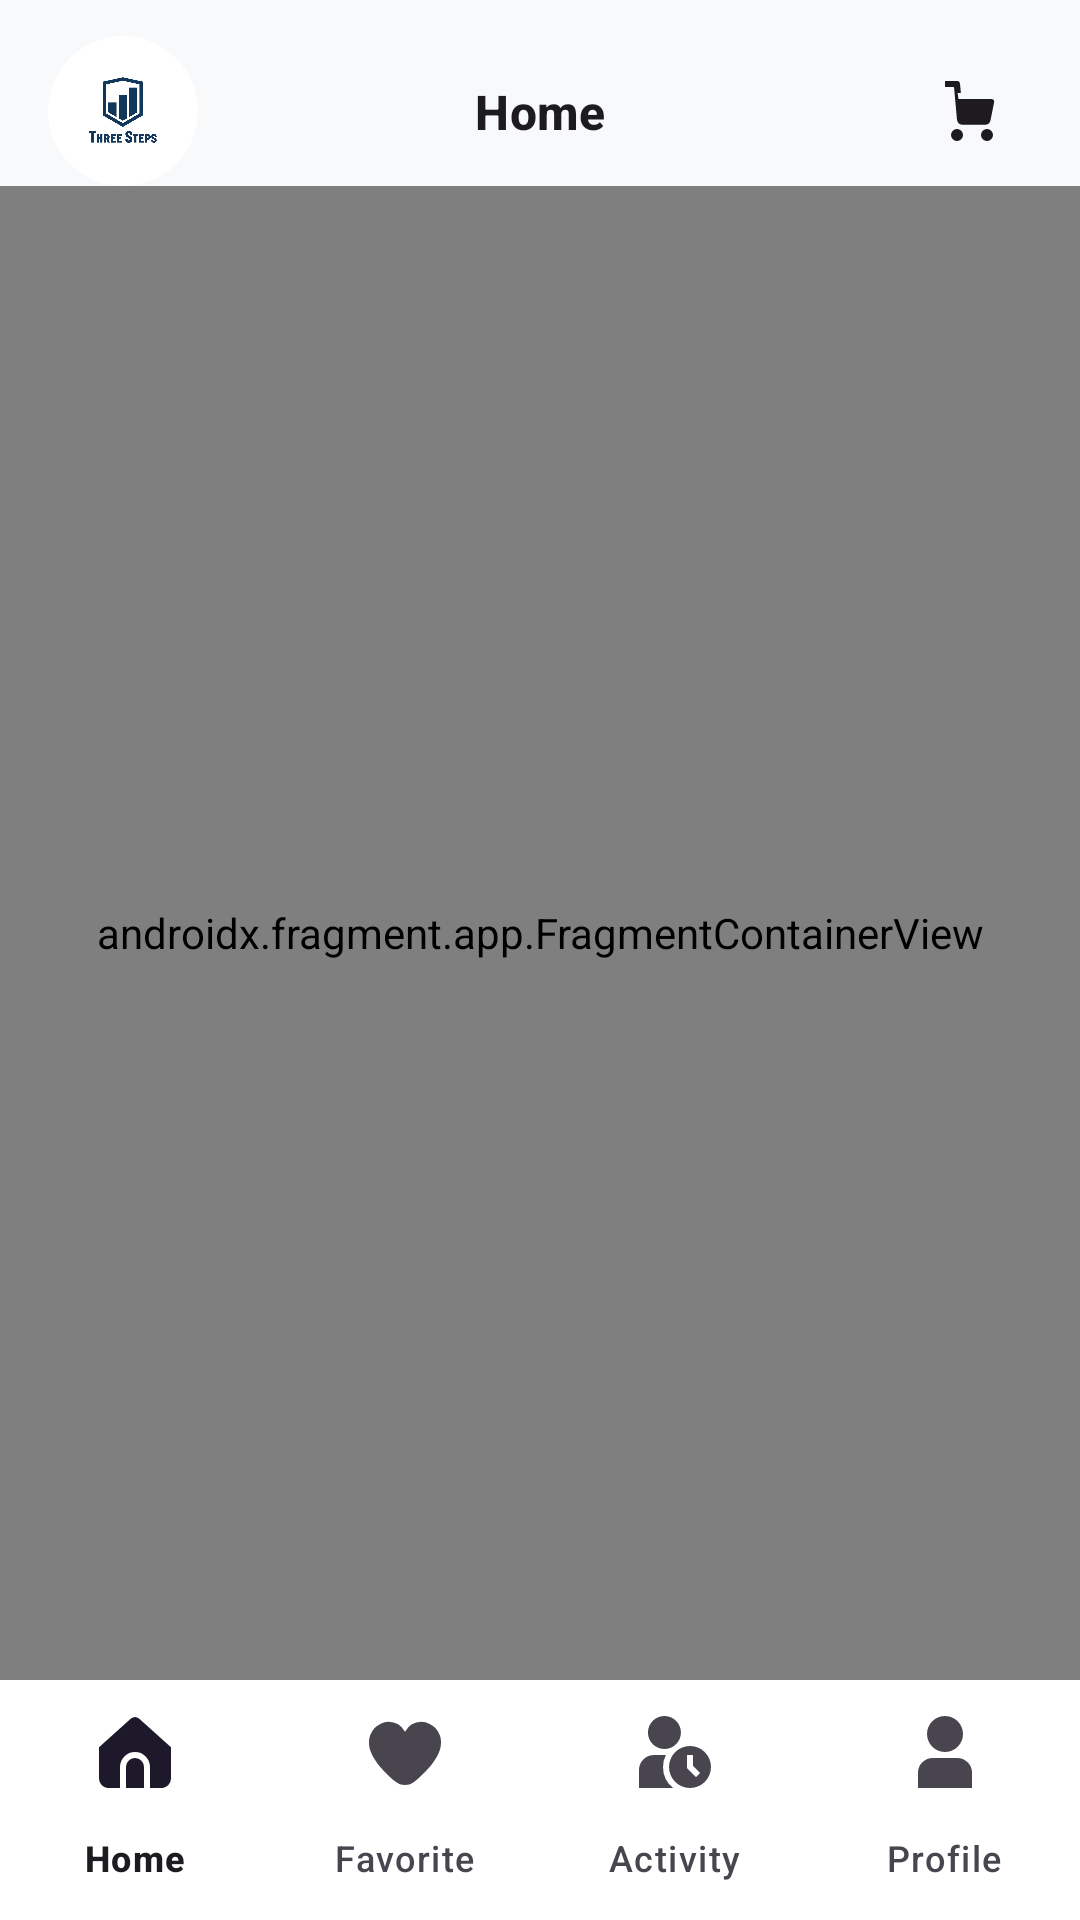

Screen size 1080w x 1920h. Icon name, then its center in pixels as [x,y]:
Cart: [970,111]
